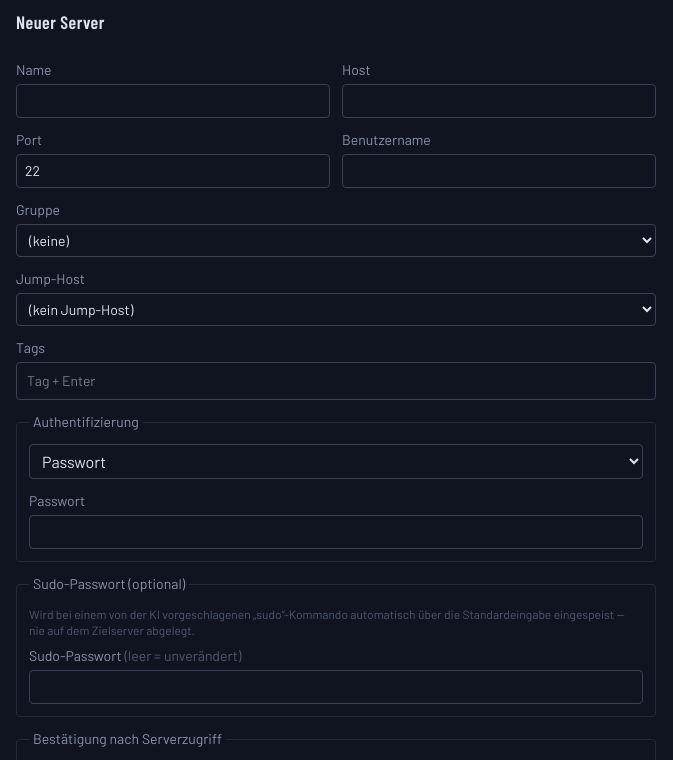
Test case: ServerForm Ed25519 recommendation (Spec 0069, Teil C2) › appears when auth kind is switched to Private Key
Select "Private Key" in the 3rd dropdown: point(336, 462) 29,444 -> 643,479
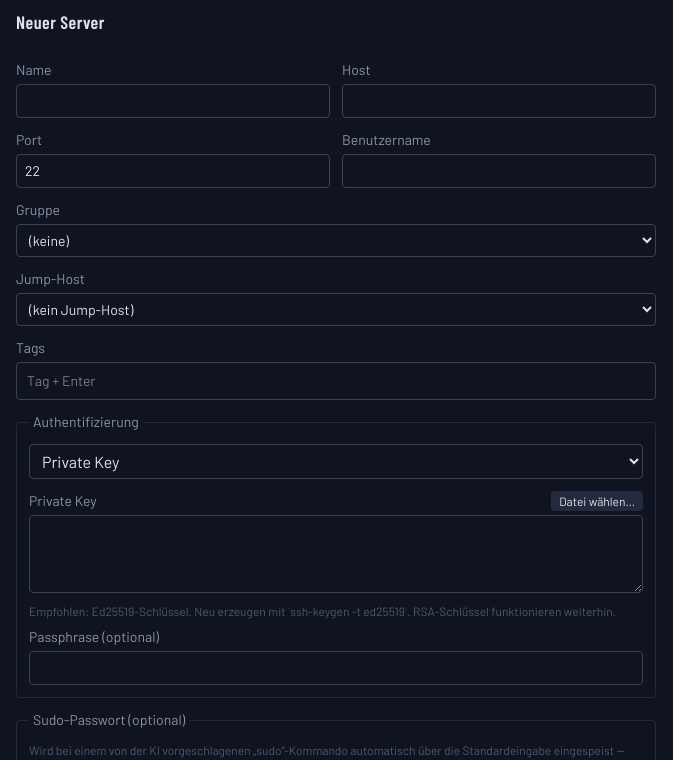
Now the text "Empfohlen: Ed25519-Schlüssel. Neu erzeugen mit `ssh-keygen -t ed25519`. RSA-Schlüssel funktionieren weiterhin." is shown, box 29,604 -> 616,618
